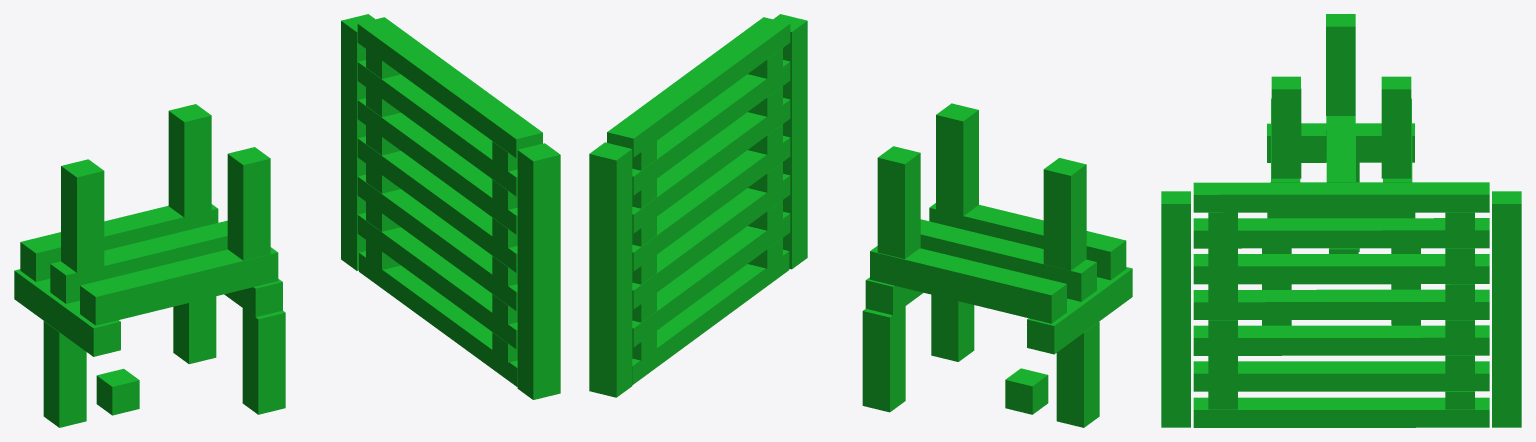
The model's file is Dynamic_1kg_0_5friction.fbx.
3 renders of one model, left to right at view 1: azimuth 30°, elevation 25°; view 2: azimuth 150°, elevation 25°; view 3: azimuth 270°, elevation 25°, orthographic. The views are drawn at different scales.
Parts seen in each view (by area): view 1: D1DynamicBox33, D1DynamicBox8, D1DynamicBox31, D1DynamicBox25, D1DynamicBox26, D1DynamicBox13, D1DynamicBox18, D1DynamicBox19, D1DynamicBox32, D1DynamicBox7, D1DynamicBox12, D1DynamicBox10 (+9 smaller); view 2: D1DynamicBox32, D1DynamicBox6, D1DynamicBox31, D1DynamicBox33, D1DynamicBox25, D1DynamicBox19, D1DynamicBox13, D1DynamicBox18, D1DynamicBox26, D1DynamicBox7, D1DynamicBox12, D1DynamicBox9 (+15 smaller); view 3: D1DynamicBox31, D1DynamicBox26, D1DynamicBox12, D1DynamicBox13, D1DynamicBox18, D1DynamicBox25, D1DynamicBox19, D1DynamicBox32, D1DynamicBox33, D1DynamicBox9, D1DynamicBox10, D1DynamicBox11 (+17 smaller).
Part boxes in pixels (x1,y1,x2,y2): D1DynamicBox33: (517, 143, 560, 399); D1DynamicBox8: (80, 247, 278, 325); D1DynamicBox31: (357, 17, 542, 158); D1DynamicBox25: (357, 98, 517, 234); D1DynamicBox26: (357, 60, 517, 196); D1DynamicBox13: (357, 212, 517, 349); D1DynamicBox18: (357, 174, 517, 310); D1DynamicBox19: (357, 136, 517, 272); D1DynamicBox32: (341, 14, 374, 270); D1DynamicBox7: (50, 220, 227, 303); D1DynamicBox12: (359, 251, 517, 386); D1DynamicBox10: (227, 147, 270, 260); D1DynamicBox32: (589, 142, 632, 397); D1DynamicBox6: (870, 246, 1066, 323); D1DynamicBox31: (607, 17, 790, 157); D1DynamicBox33: (773, 14, 807, 269); D1DynamicBox25: (632, 98, 790, 233); D1DynamicBox19: (632, 135, 790, 271); D1DynamicBox13: (632, 211, 790, 347); D1DynamicBox18: (632, 173, 790, 309); D1DynamicBox26: (632, 60, 790, 195); D1DynamicBox7: (920, 219, 1096, 301); D1DynamicBox12: (632, 249, 789, 384); D1DynamicBox9: (877, 146, 920, 258); D1DynamicBox31: (1193, 182, 1489, 212); D1DynamicBox26: (1193, 218, 1489, 248); D1DynamicBox12: (1193, 397, 1489, 427); D1DynamicBox13: (1193, 361, 1489, 391); D1DynamicBox18: (1193, 325, 1489, 355); D1DynamicBox25: (1193, 254, 1489, 284); D1DynamicBox19: (1193, 289, 1489, 319); D1DynamicBox32: (1492, 191, 1521, 427); D1DynamicBox33: (1161, 191, 1190, 427); D1DynamicBox9: (1381, 76, 1411, 178); D1DynamicBox10: (1271, 76, 1301, 178); D1DynamicBox11: (1326, 14, 1355, 115).
Size of what is drawn, in the model's own units: 45.15 by 26 by 36.49.
